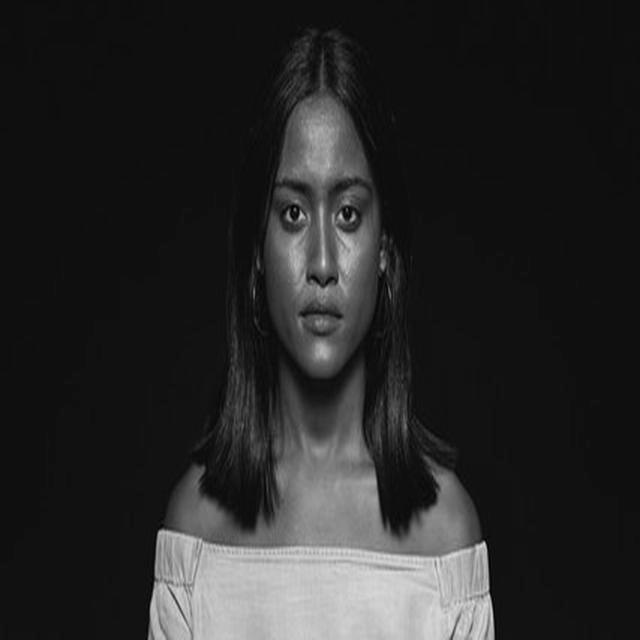Neutral: (263, 98, 381, 379)
